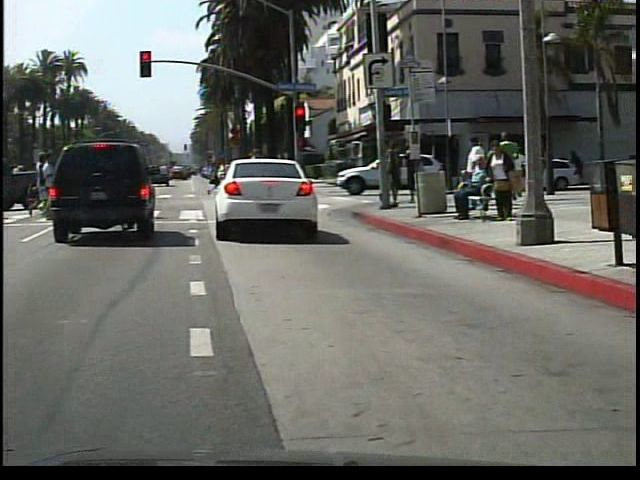person: (488, 137, 525, 227), (456, 157, 498, 219), (244, 143, 279, 217)
